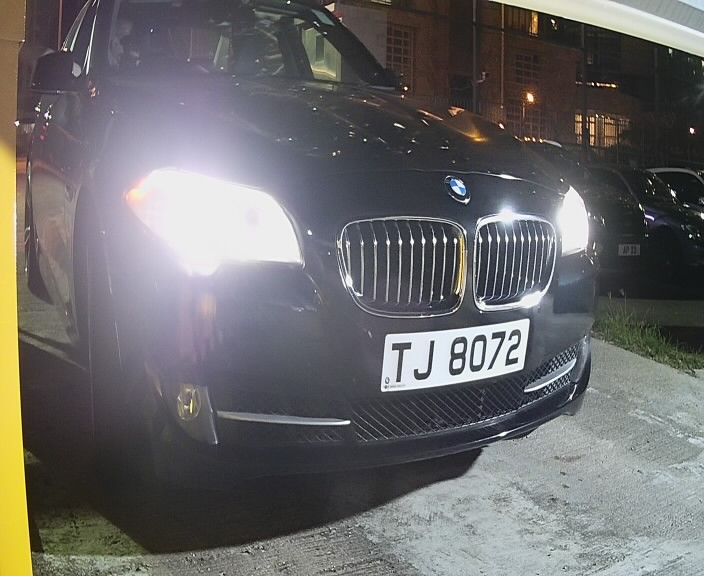Car: (28, 2, 614, 518)
License Plate: (377, 313, 540, 392)
